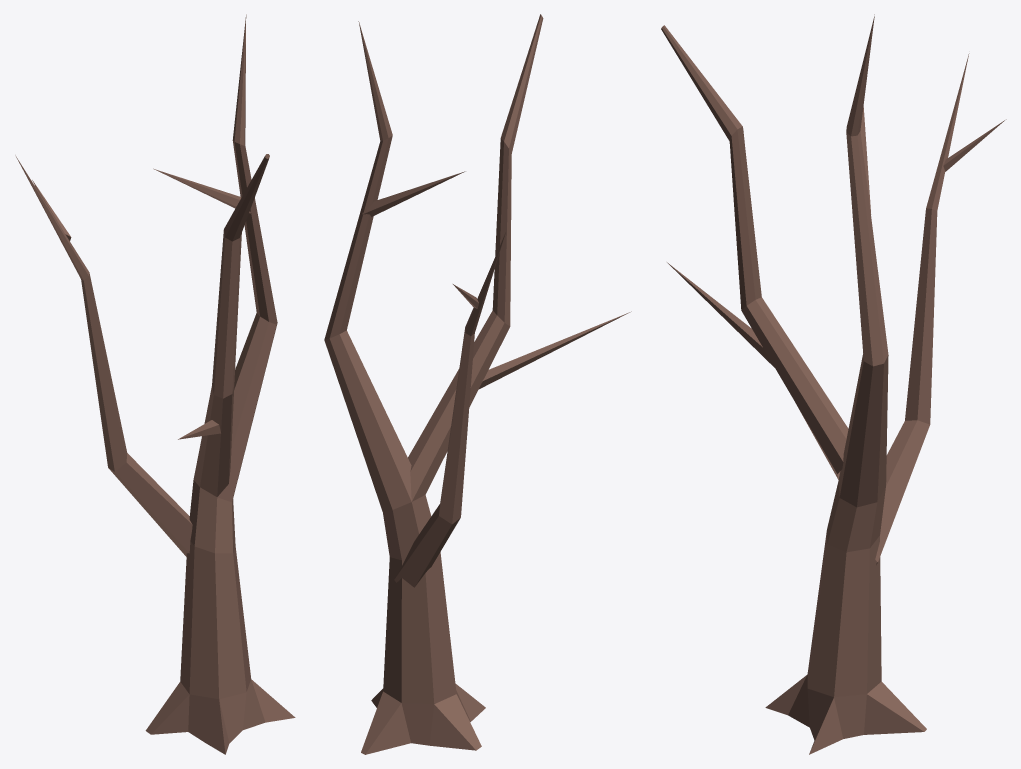
Rendered from Arvore_velha.fbx.
The picture shows the model from 3 angles, left to right: view 1: azimuth 30°, elevation 25°; view 2: azimuth 150°, elevation 25°; view 3: azimuth 270°, elevation 25°; orthographic projection. The views are drawn at different scales.
Visible parts, largest first — view 1: tree-old; view 2: tree-old; view 3: tree-old.
Part boxes in pixels (x1=…): tree-old: x1=15, y1=14, x2=295, y2=754; tree-old: x1=324, y1=14, x2=631, y2=754; tree-old: x1=661, y1=14, x2=1006, y2=754.
Bounding box in the file's own units: 189 × 567 × 243.
